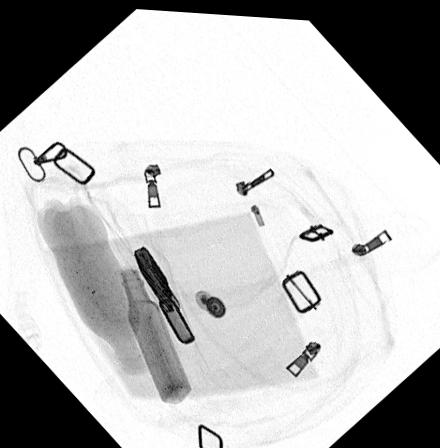Lighter: (132, 245, 195, 342)
